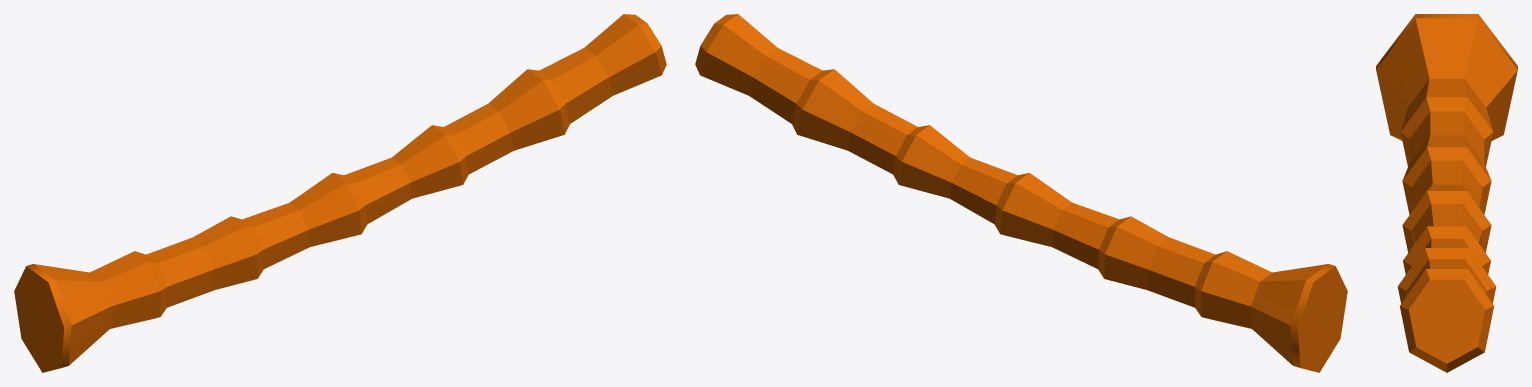
Rendered from trunk_walkable.fbx.
3 views of the same model, side by side, from view 1: azimuth 30°, elevation 25°; view 2: azimuth 150°, elevation 25°; view 3: azimuth 270°, elevation 25° (orthographic). The views are drawn at different scales.
Visible parts, largest first — view 1: Cylinder001; view 2: Cylinder001; view 3: Cylinder001.
Part boxes in pixels (bbox=[...]): Cylinder001: bbox=[14, 14, 666, 372]; Cylinder001: bbox=[695, 14, 1347, 372]; Cylinder001: bbox=[1376, 14, 1517, 372].
Size of the model in its own units: 578 by 186 by 80.41.
